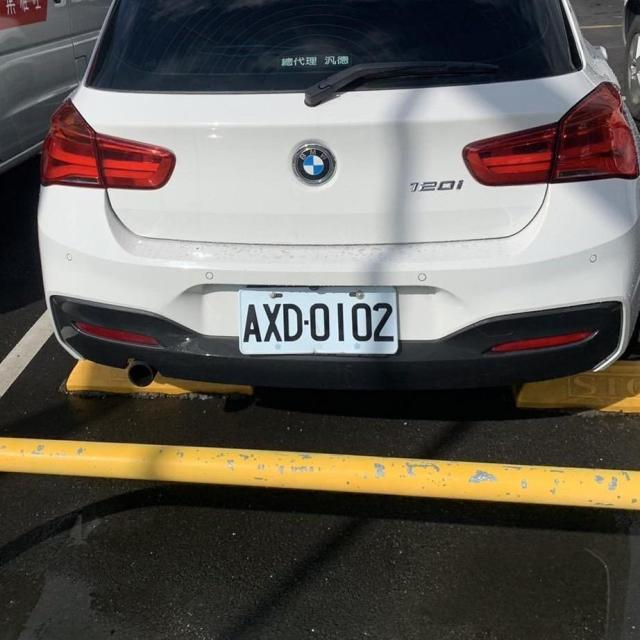W: (232, 268, 409, 374)
